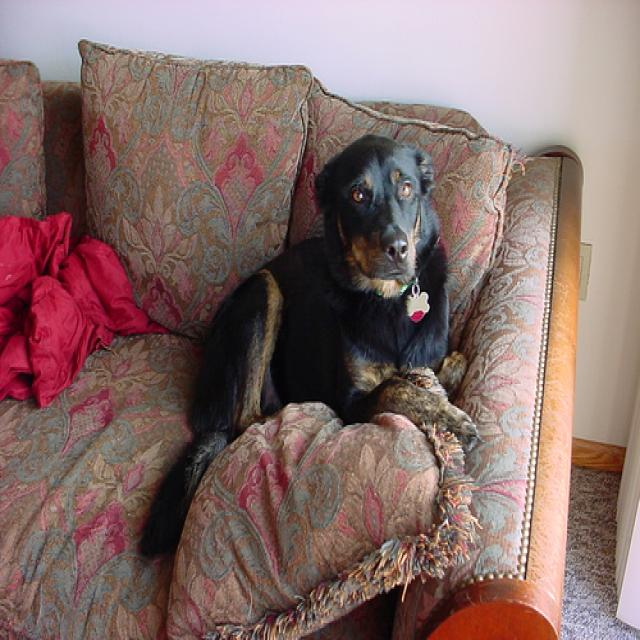dog: (143, 132, 481, 559)
sofa: (1, 37, 586, 639)
